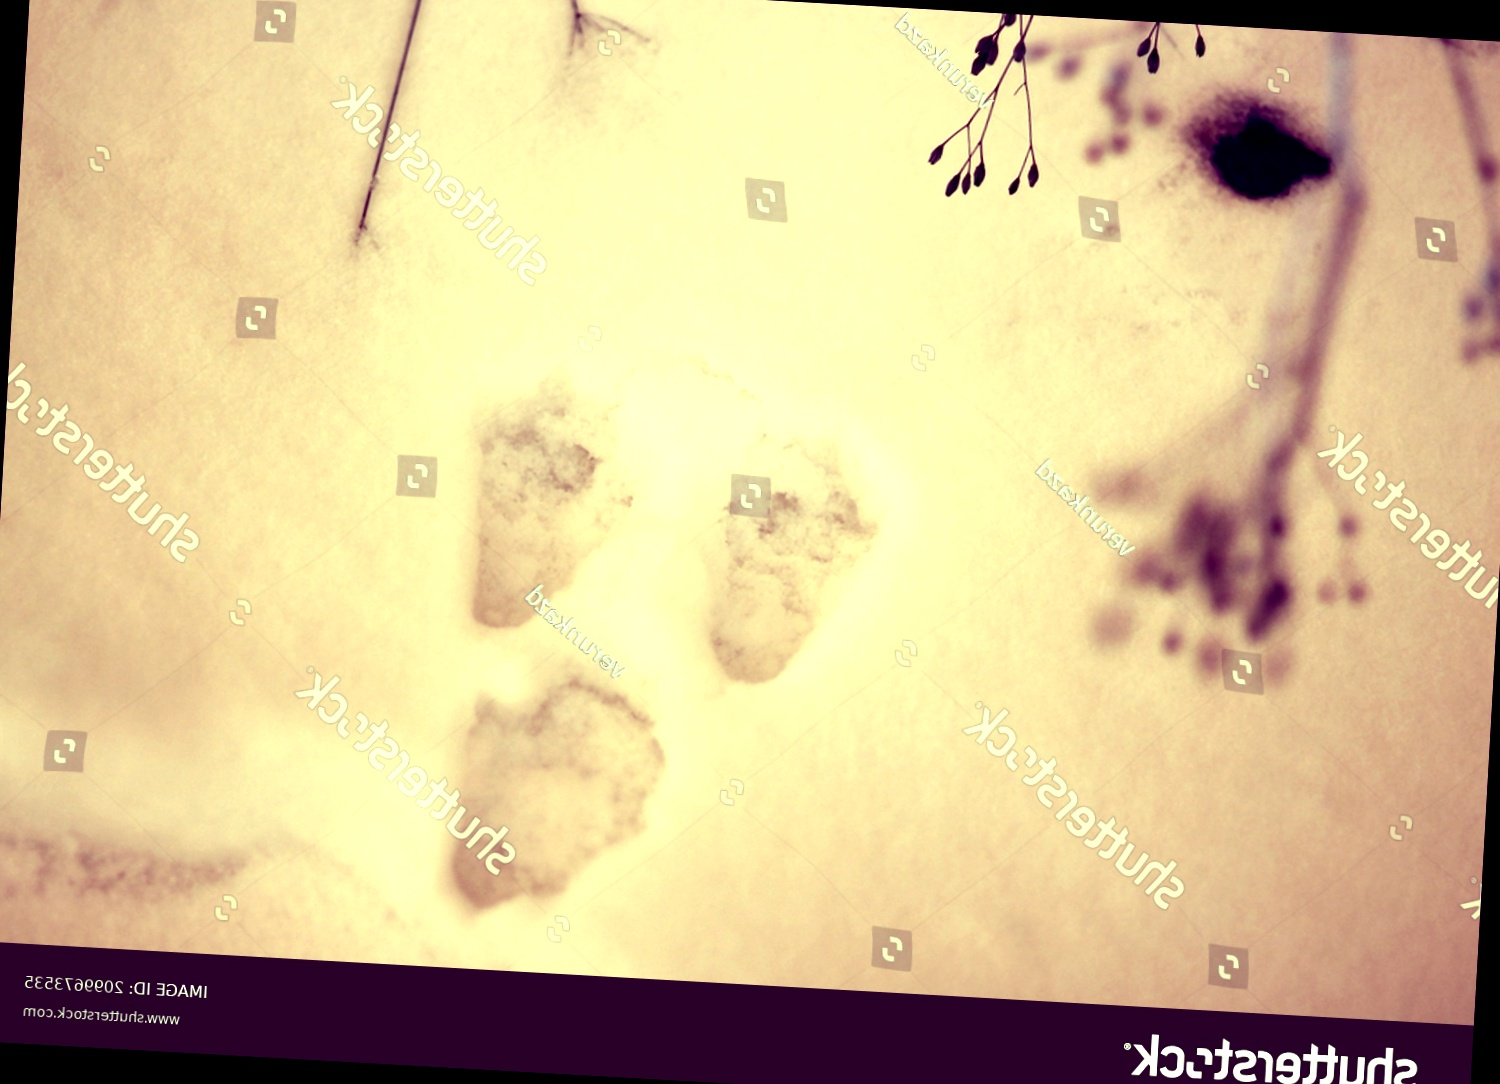lapin: (429, 333, 674, 650), (684, 385, 911, 704), (423, 660, 679, 940)
